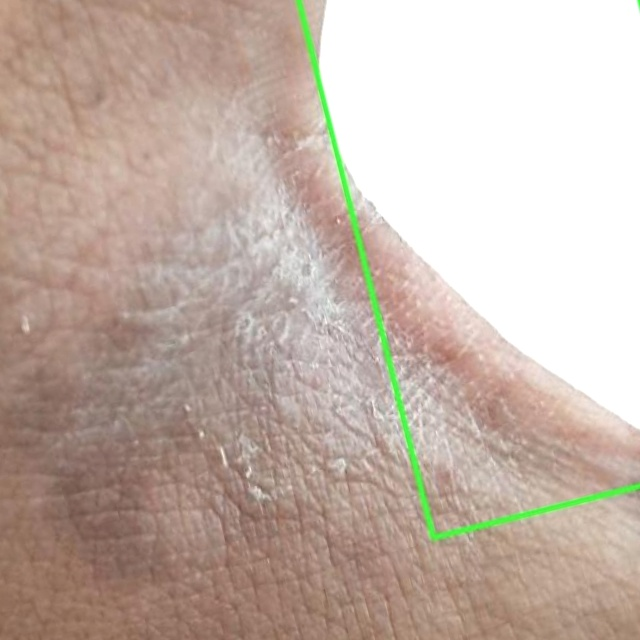Scabies: (298, 0, 639, 537)
